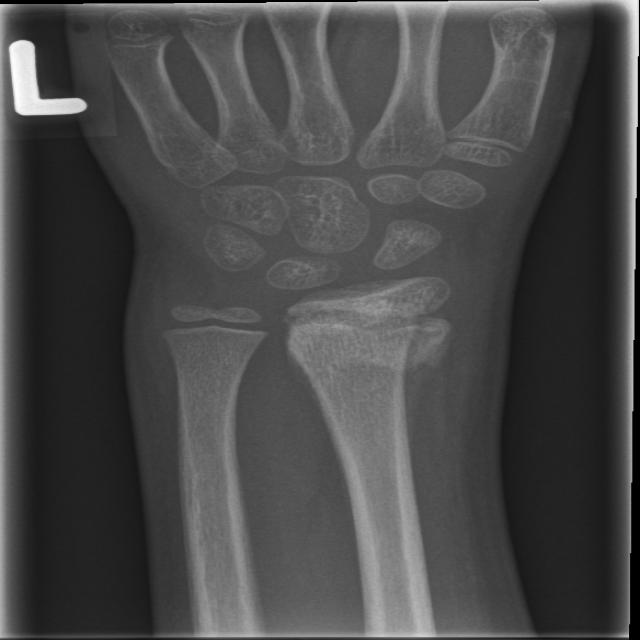radius fracture: (275, 308, 466, 482)
